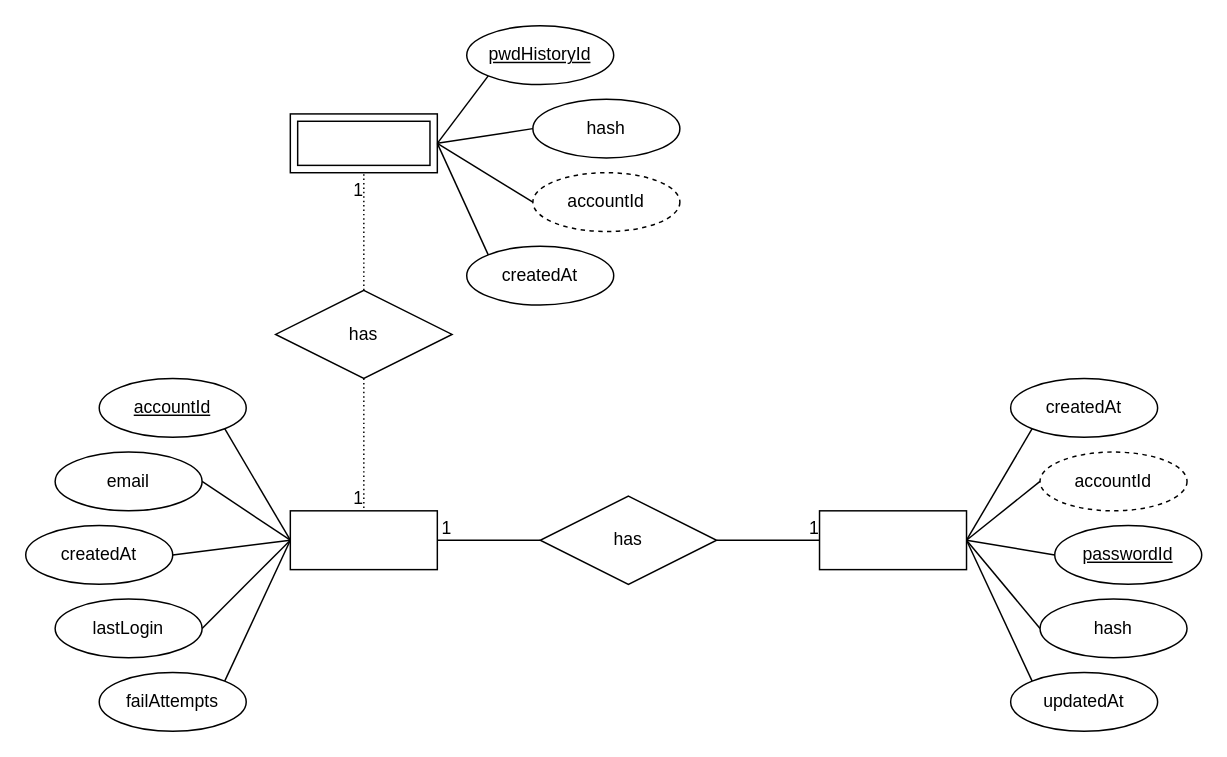
This 1227x757 diagram has some shape labels left out. The shapes that lost their labels are listed below. From the top down, each one's centre as x and y in pixels, then its label:
point 363,142: Password History
point 363,539: Account
point 892,539: Password
